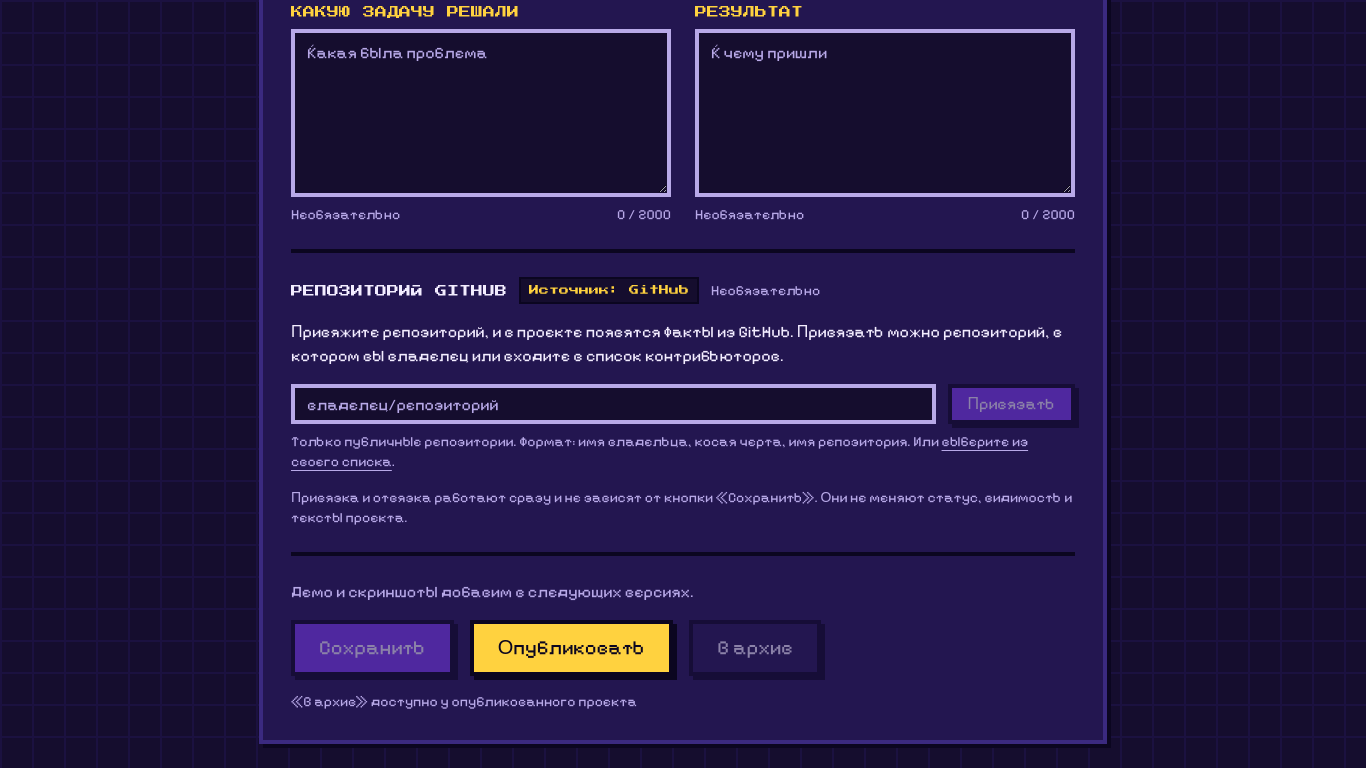
link › an invalid name shows the format hint without a request
(page scrolled)
Type "not a name" into the field named "Репозиторий GitHub" at (613, 404), box [291, 384, 936, 424]
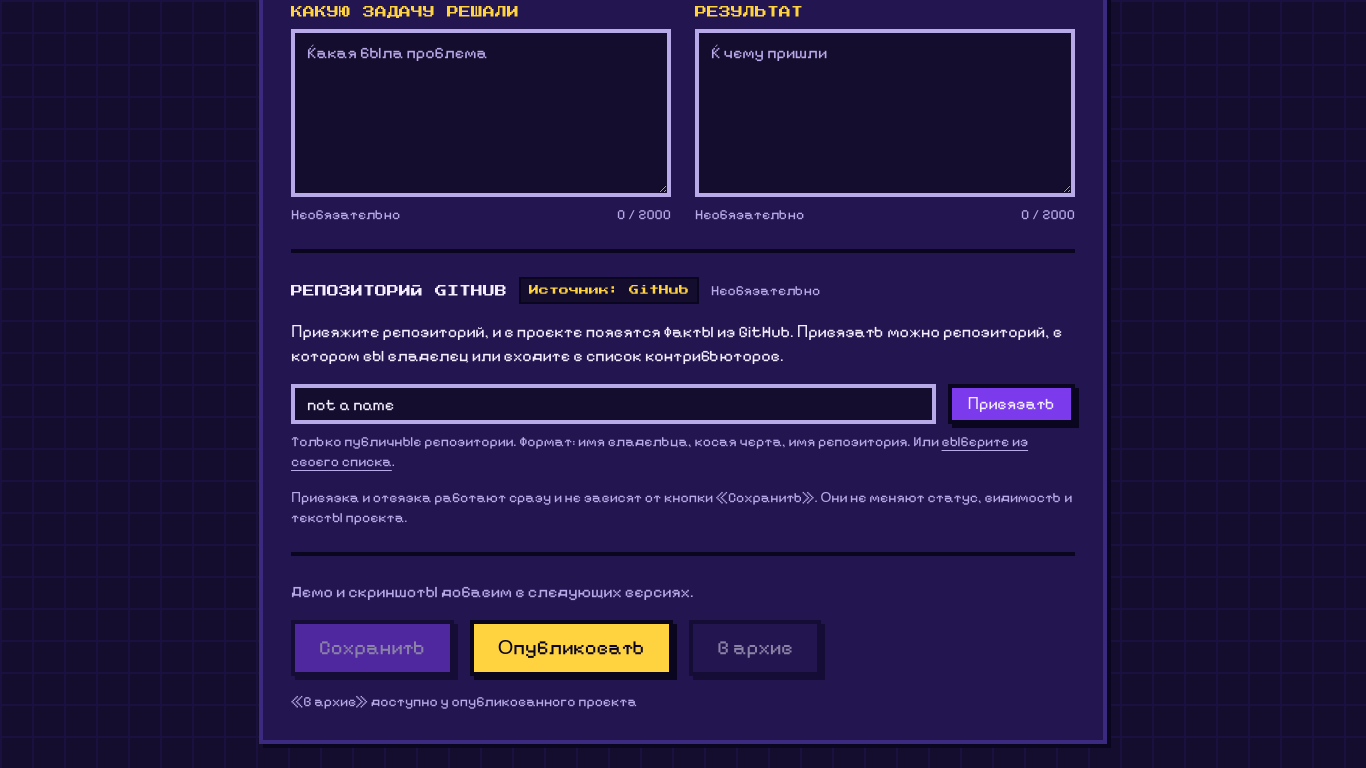
Click the button "Привязать" at (1011, 404), box [948, 384, 1075, 424]
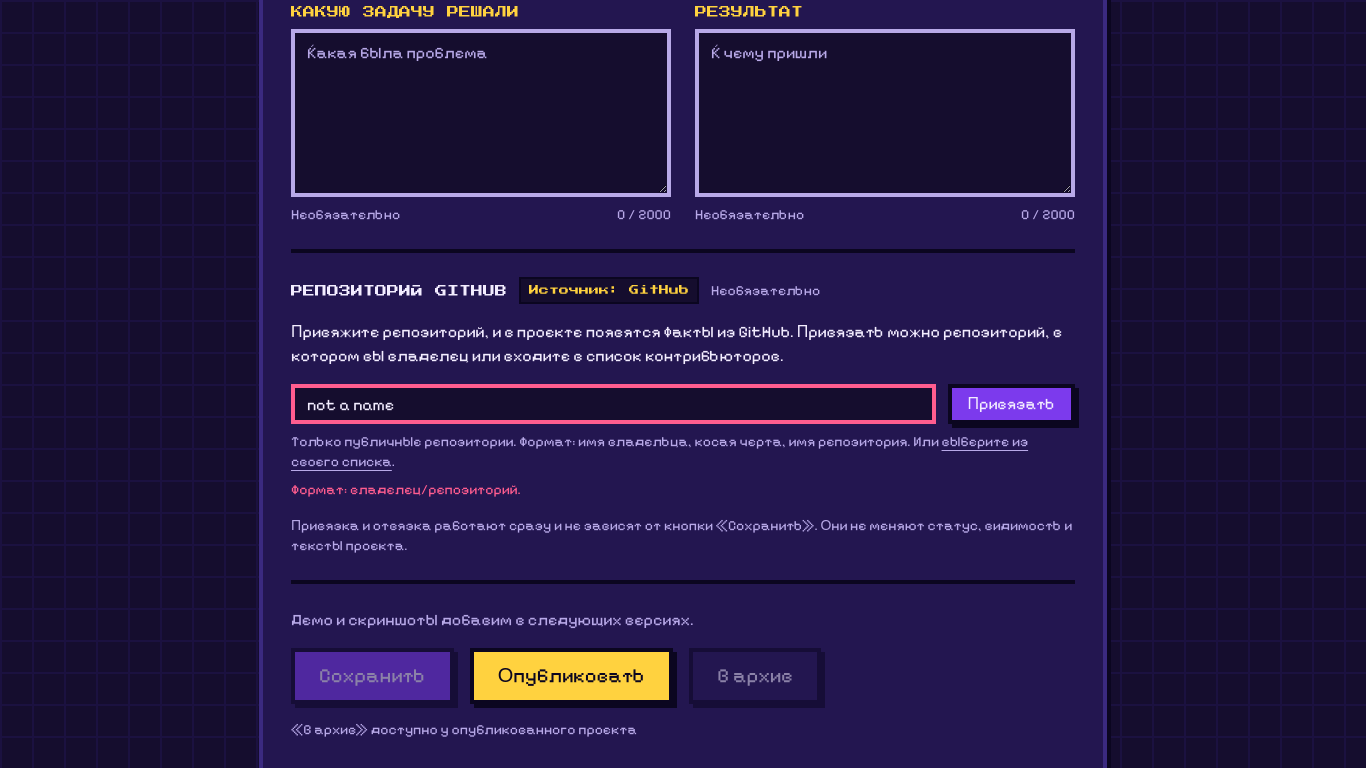
Expected: the text "Формат: владелец/репозиторий." is shown, [291, 481, 521, 498]
Replace the text in the field named "Репозиторий GitHub" with "octocat/" at (613, 404), box [291, 384, 936, 424]
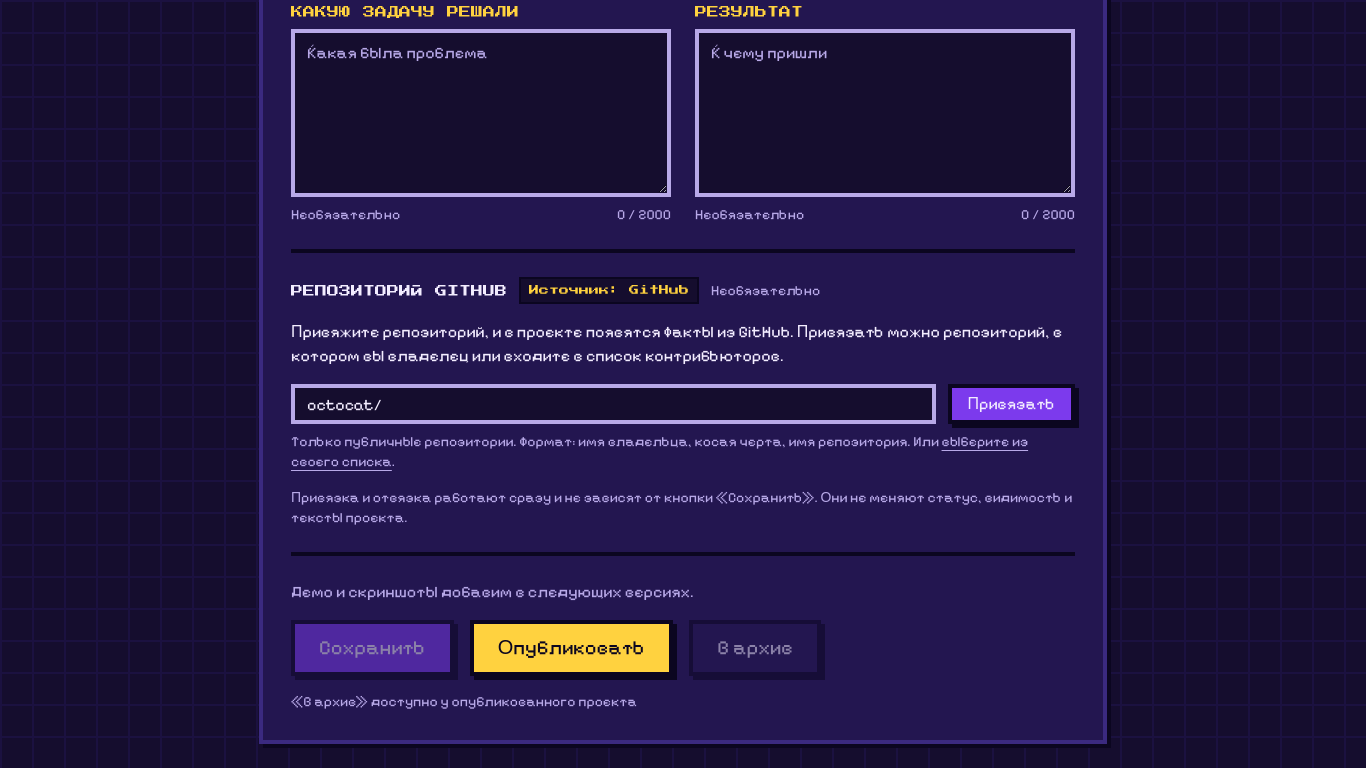
Expected: the text "Формат: владелец/репозиторий." is gone
Press Enter in the field named "Репозиторий GitHub", box [291, 384, 936, 424]
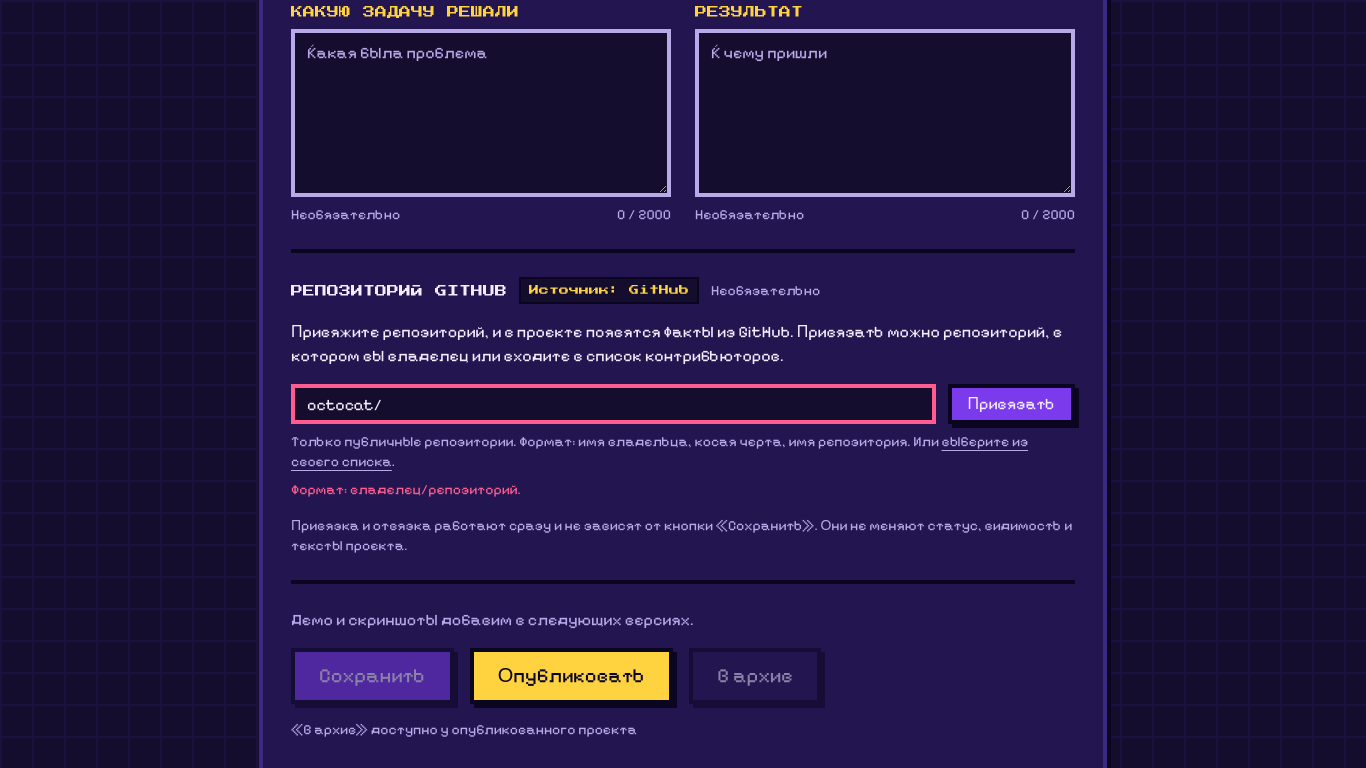
Expected: the text "Формат: владелец/репозиторий." is shown, [291, 481, 521, 498]
